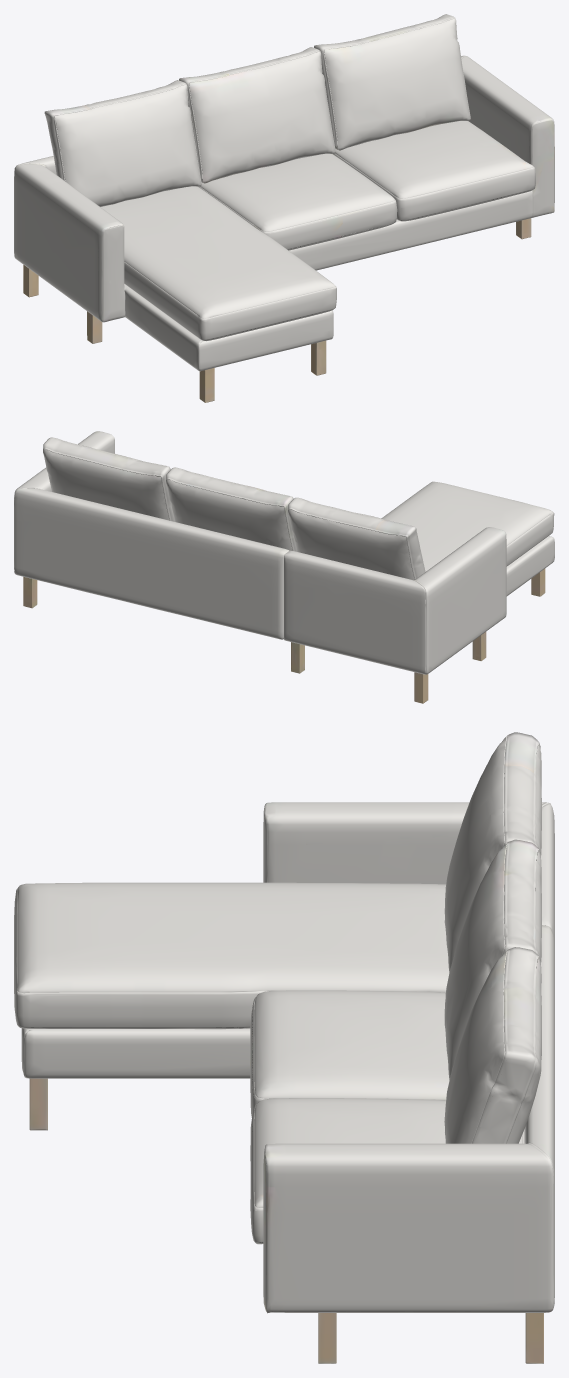
3 renders of one model, top to bottom at view 1: azimuth 30°, elevation 25°; view 2: azimuth 150°, elevation 25°; view 3: azimuth 270°, elevation 25°, orthographic. The views are drawn at different scales.
Parts seen in each view (by area): view 1: Box006; view 2: Box006; view 3: Box006.
Part boxes in pixels (box(x1,y1,x2,y2)): Box006: box(14, 14, 554, 402); Box006: box(14, 431, 554, 703); Box006: box(14, 732, 554, 1363).
Bounding box in the file's own units: 2.34 × 0.9005 × 1.48.
1 material, 1 textured.
